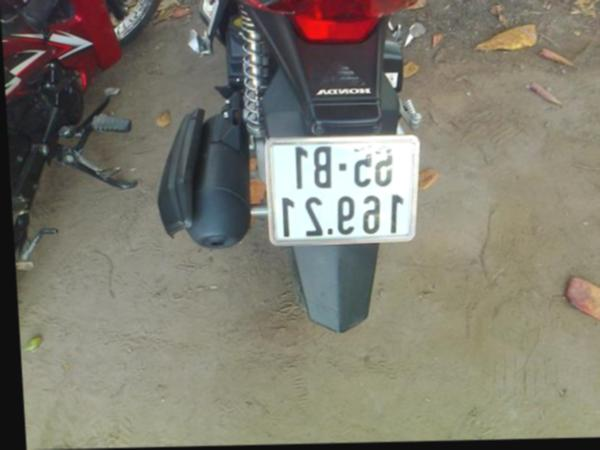License_Plate: (262, 135, 421, 245)
